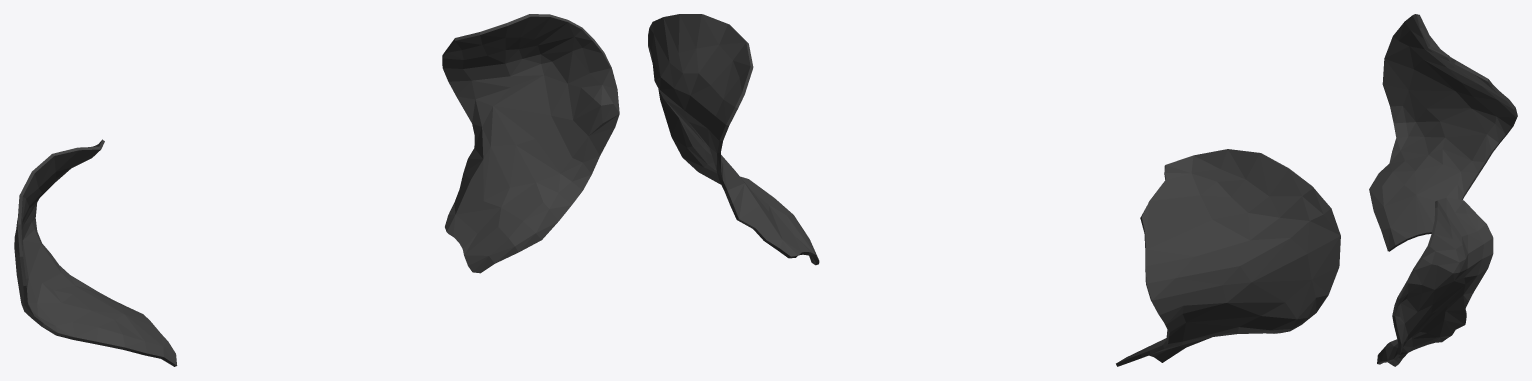
File: c1_cranial_articular_faces.glb
3 views of the same model, side by side, from view 1: azimuth 30°, elevation 25°; view 2: azimuth 150°, elevation 25°; view 3: azimuth 270°, elevation 25° (orthographic). The views are drawn at different scales.
Parts seen in each view (by area): view 1: c1_cranial_articular_faces; view 2: c1_cranial_articular_faces; view 3: c1_cranial_articular_faces.
Part boxes in pixels (left/top/right/bottom): c1_cranial_articular_faces: left=14, top=14, right=619, bottom=366; c1_cranial_articular_faces: left=648, top=14, right=1340, bottom=366; c1_cranial_articular_faces: left=1369, top=14, right=1517, bottom=366.
Bounding box in the file's own units: 44.39 × 16.72 × 11.04.
Materials: 1 (1 with a texture image).
